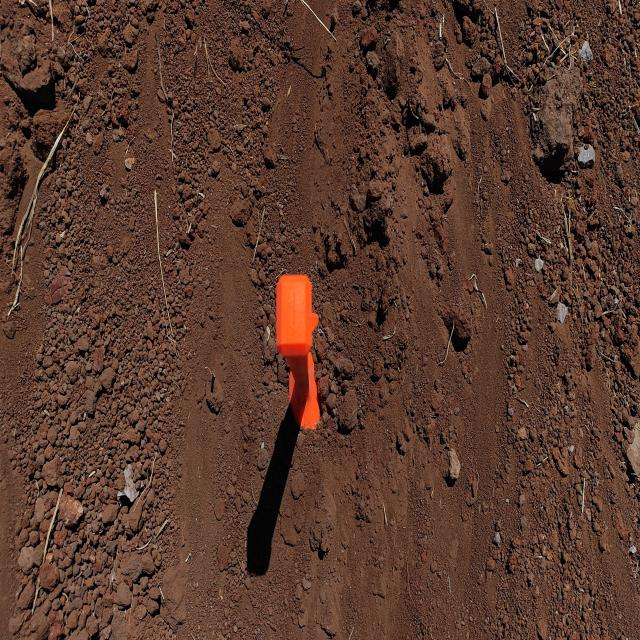Orange_hammer: (276, 272, 320, 430)
